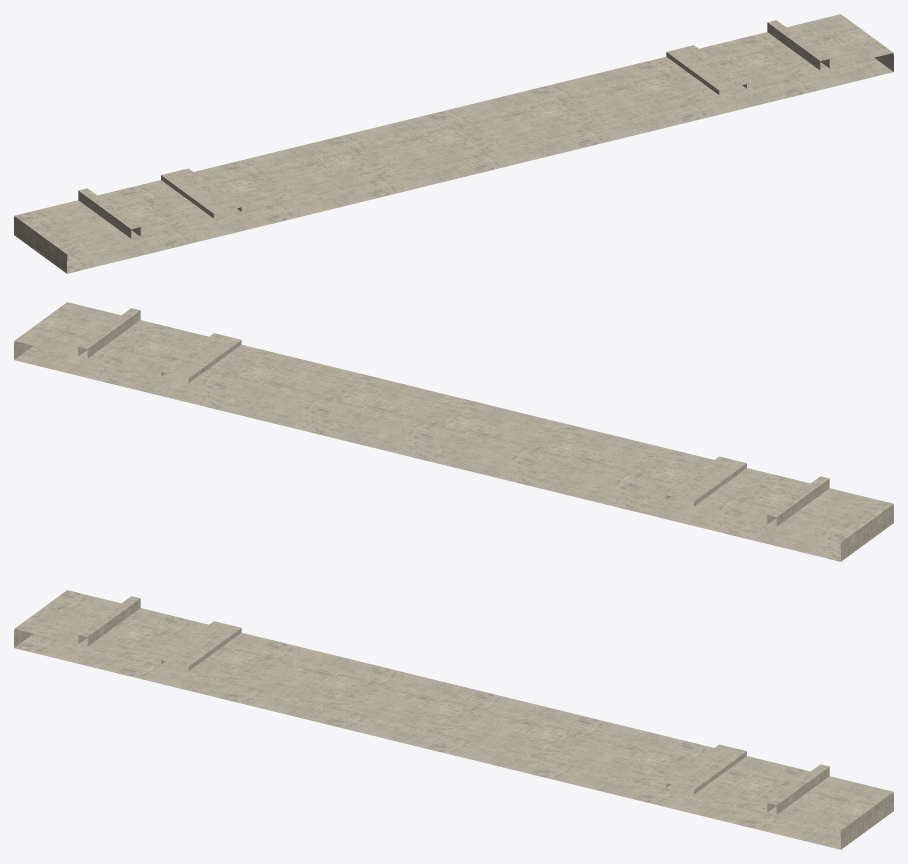
Rendered from SuspBridgeBase-4L.FBX.
3 views of the same model, one above another, from view 1: azimuth 30°, elevation 25°; view 2: azimuth 150°, elevation 25°; view 3: azimuth 330°, elevation 25° (orthographic).
Visible parts, largest first — view 1: SuspBridgeBase-4L; view 2: SuspBridgeBase-4L; view 3: SuspBridgeBase-4L.
Part boxes in pixels (box(x1,y1,x2,y2)): SuspBridgeBase-4L: box(14, 14, 893, 273); SuspBridgeBase-4L: box(14, 302, 893, 561); SuspBridgeBase-4L: box(14, 590, 893, 849).
Size of the model in its own units: 45 by 1.5 by 5.
